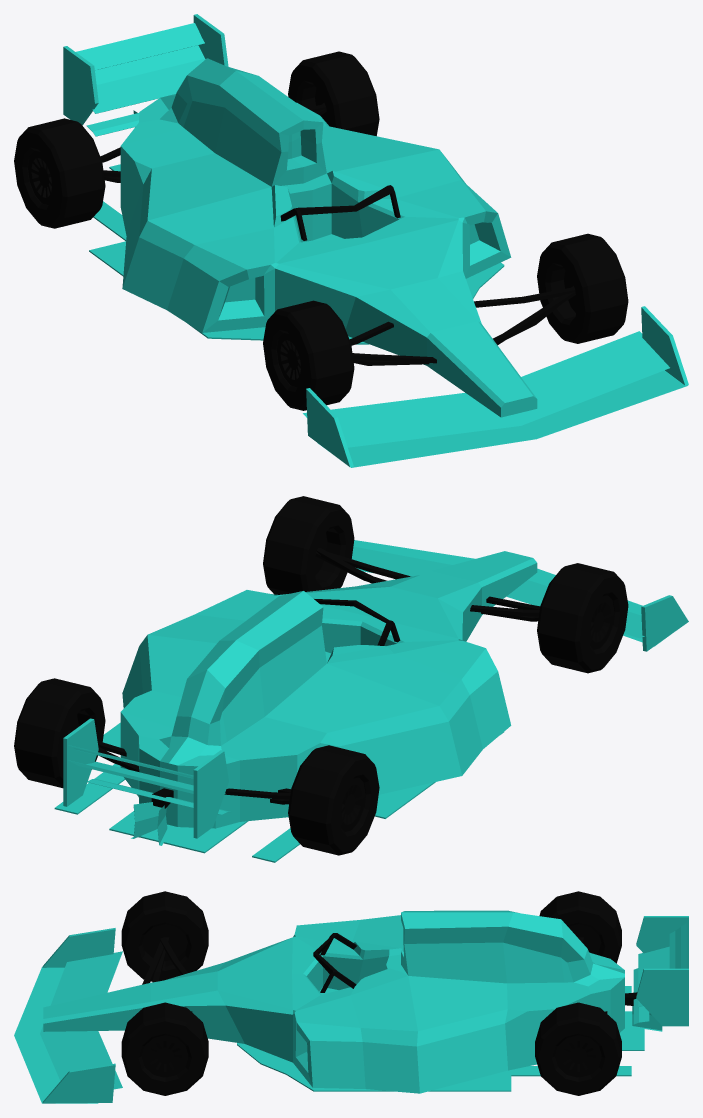
Rendered from Ver3_F1.fbx.
3 renders of one model, top to bottom at view 1: azimuth 30°, elevation 25°; view 2: azimuth 150°, elevation 25°; view 3: azimuth 270°, elevation 25°, orthographic. The views are drawn at different scales.
Visible parts, largest first — view 1: Cube, Cylinder, Cube.003, Cube.001, Plane; view 2: Cube, Cylinder, Cube.003, Cube.001, Cube.004, Plane; view 3: Cube, Cylinder, Cube.003, Cube.001, Plane.
Part boxes in pixels (x1,y1,x2,y2): Cube: (89, 58, 688, 467); Cylinder: (14, 51, 628, 410); Cube.003: (63, 14, 228, 136); Cube.001: (100, 103, 575, 365); Plane: (280, 185, 400, 240); Cube: (54, 540, 688, 862); Cylinder: (14, 496, 628, 855); Cube.003: (63, 718, 230, 838); Cube.001: (67, 547, 539, 804); Cube.004: (131, 802, 170, 845); Plane: (314, 599, 400, 645); Cube: (14, 910, 644, 1103); Cylinder: (121, 891, 621, 1095); Cube.003: (633, 916, 688, 1026); Cube.001: (142, 937, 607, 1013); Plane: (313, 933, 356, 992).
Size of the model in its own units: 12.34 by 5.14 by 25.57.
